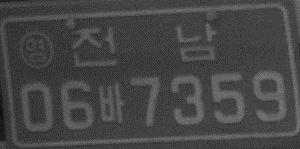0: (20, 82, 54, 133)
3: (170, 73, 205, 126)
5: (209, 71, 246, 124)
6: (59, 79, 93, 131)
7: (129, 76, 161, 128)
9: (252, 70, 287, 122)
바: (97, 82, 125, 123)
영: (18, 29, 55, 70)
전남_D: (70, 23, 216, 68)
